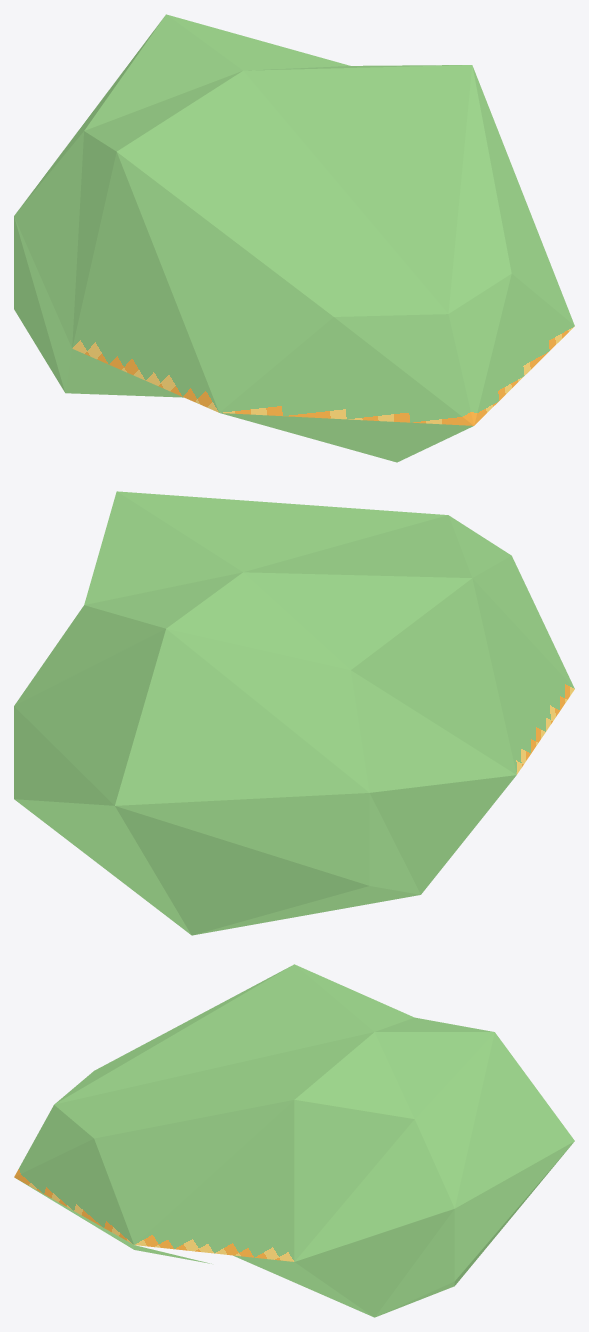
File: head.gltf
3 renders of one model, top to bottom at view 1: azimuth 30°, elevation 25°; view 2: azimuth 150°, elevation 25°; view 3: azimuth 270°, elevation 25°, orthographic. The views are drawn at different scales.
Bounding box in the file's own units: 2.5 × 1.75 × 3.5.
1 material, 1 textured.
